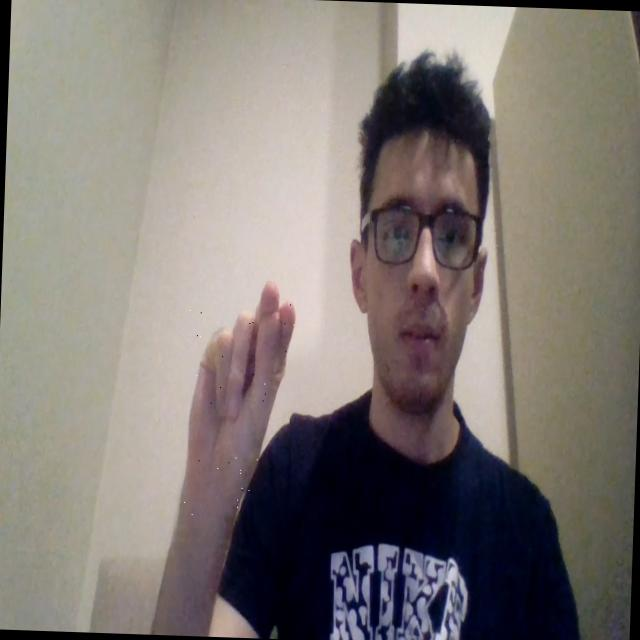no: (182, 275, 296, 518)
